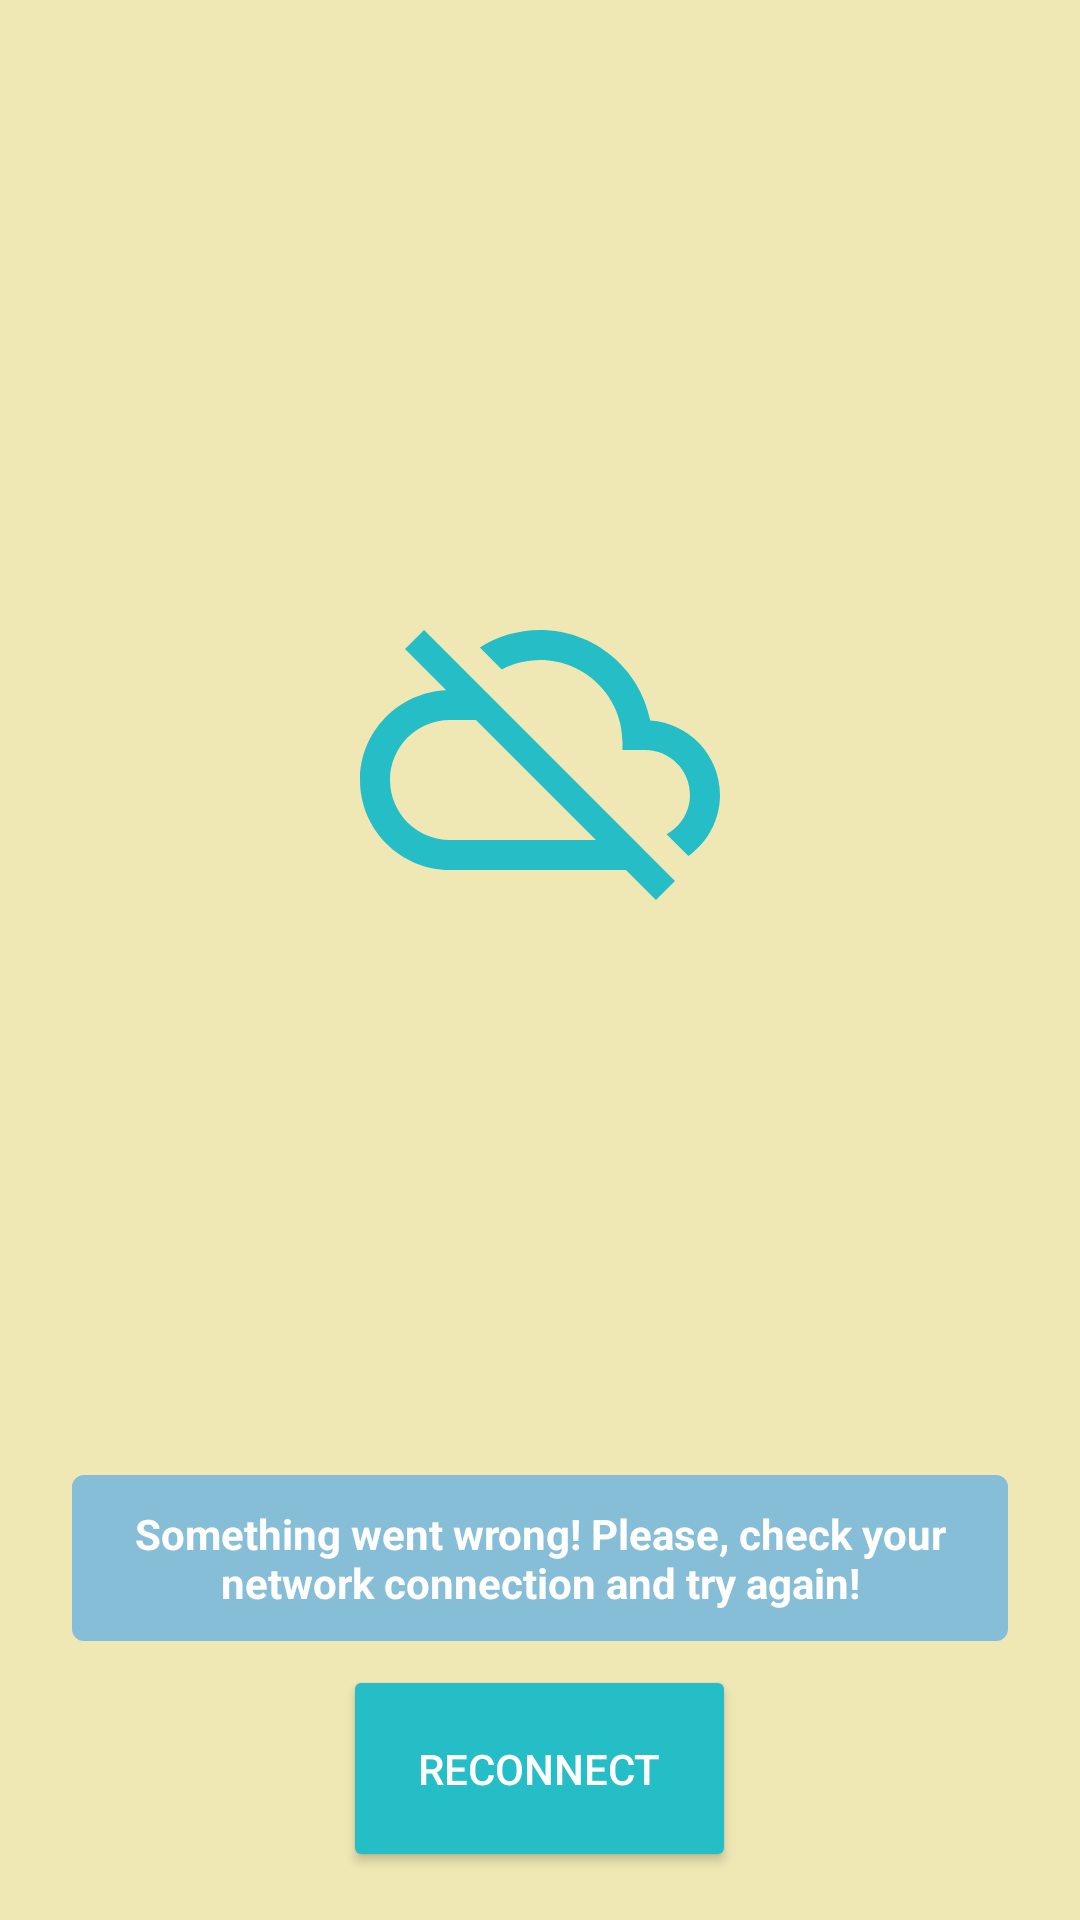

Locate icon controls on the screen. Image size 1080x1920, boxes as (x1, y1, x2, y2).
cloud off: (360, 630, 720, 900)
